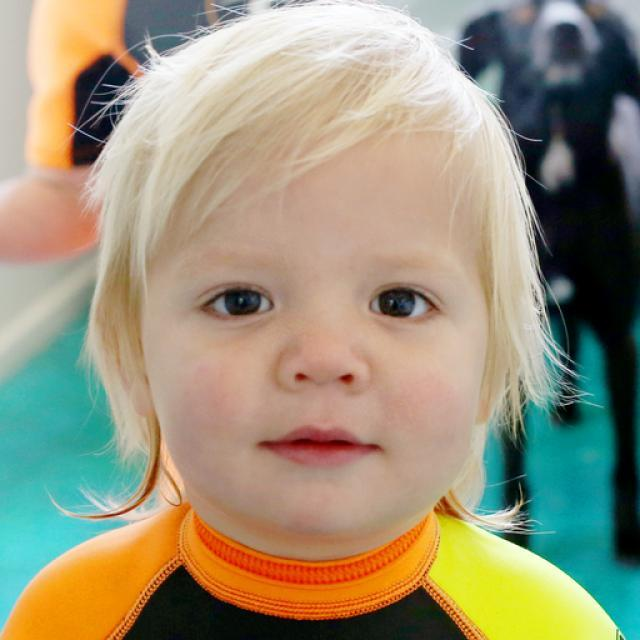neutral: (140, 133, 489, 532)
